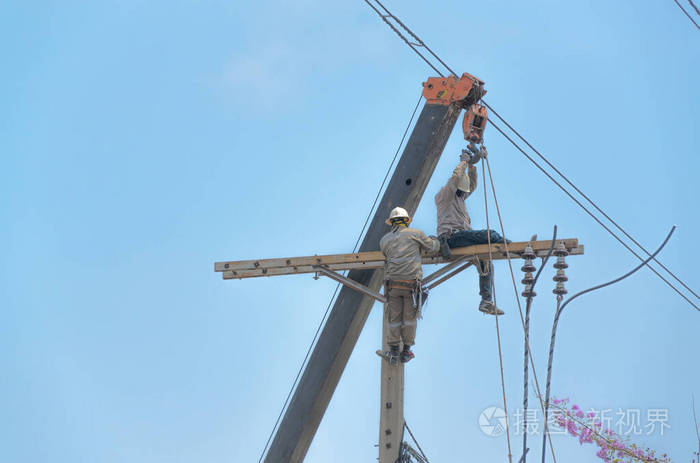insulator: (552, 247, 570, 295), (523, 252, 537, 301)
